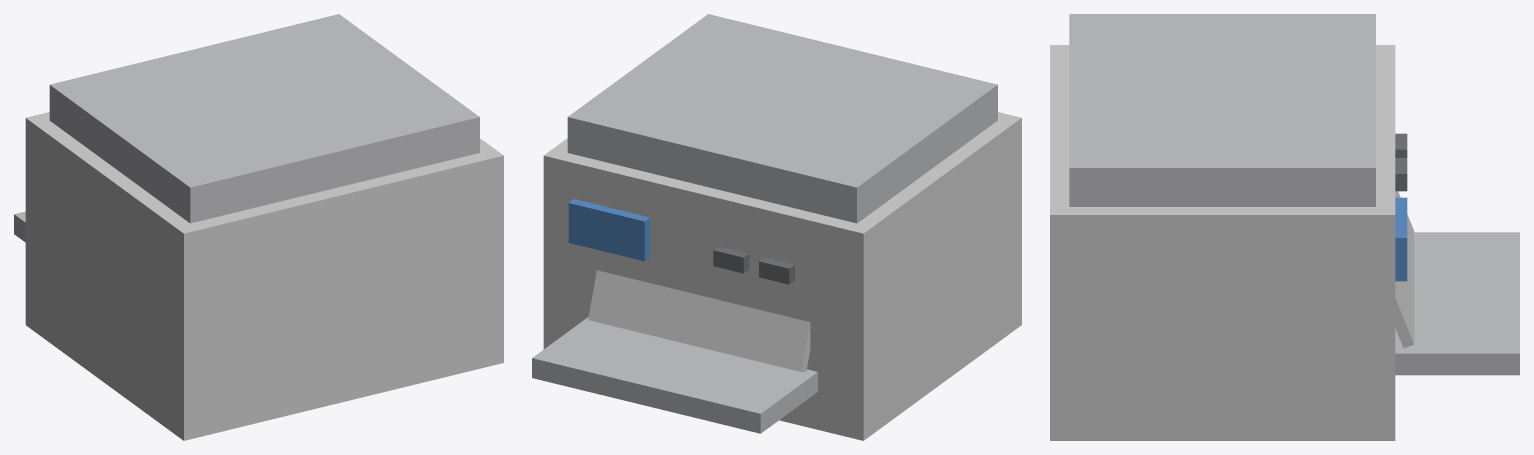
The model's file is eld_impressora.glb.
3 views of the same model, side by side, from view 1: azimuth 30°, elevation 25°; view 2: azimuth 150°, elevation 25°; view 3: azimuth 270°, elevation 25° (orthographic). The views are drawn at different scales.
Parts seen in each view (by area): view 1: ELD_IMPRESSORA_v01; view 2: ELD_IMPRESSORA_v01; view 3: ELD_IMPRESSORA_v01.
Part boxes in pixels (x1,y1,x2,y2): ELD_IMPRESSORA_v01: (14, 14, 503, 440); ELD_IMPRESSORA_v01: (532, 14, 1021, 440); ELD_IMPRESSORA_v01: (1050, 14, 1519, 440).
Bounding box in the file's own units: 0.42 × 0.305 × 0.49.
